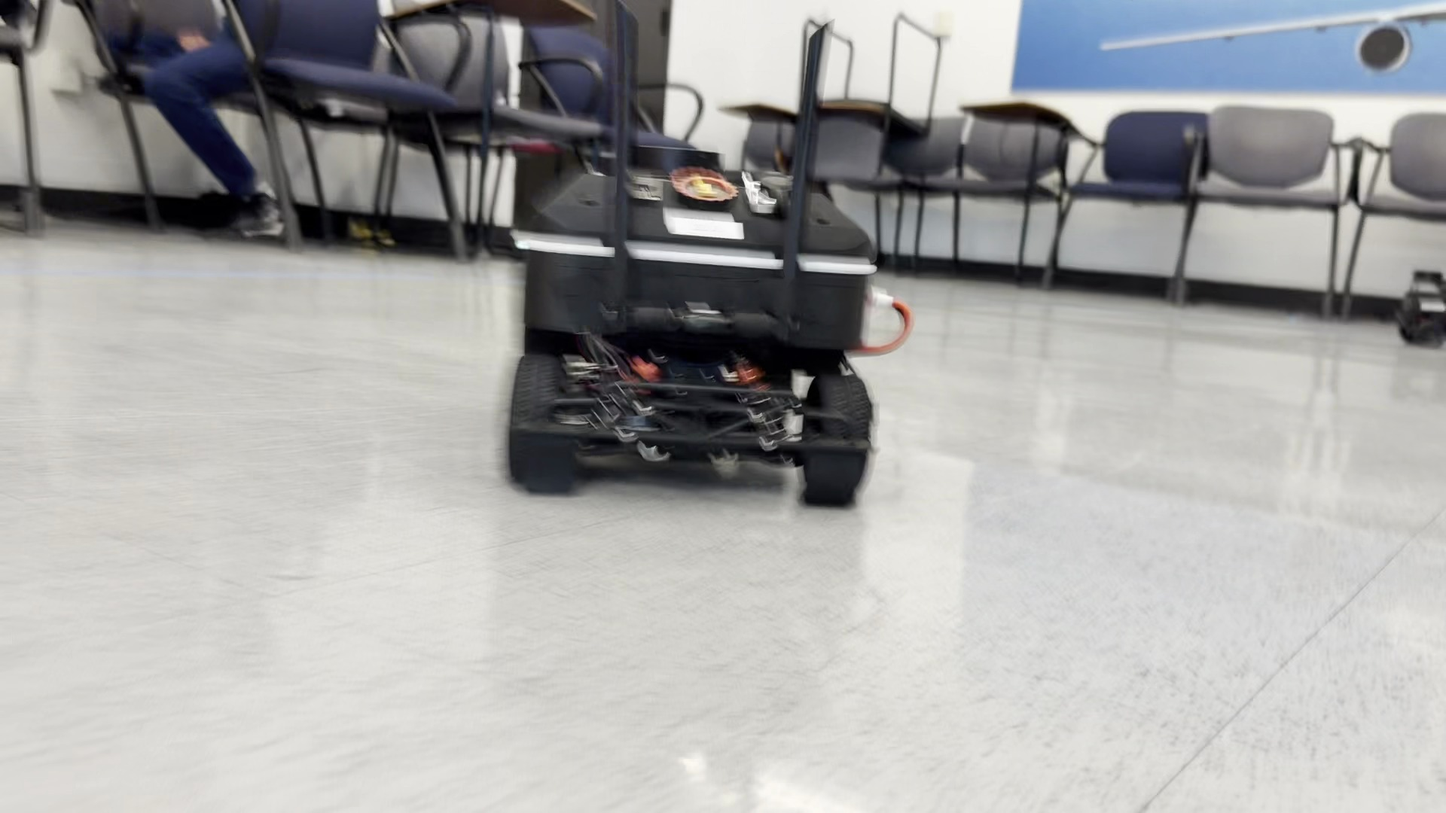racecar: (502, 95, 914, 507)
